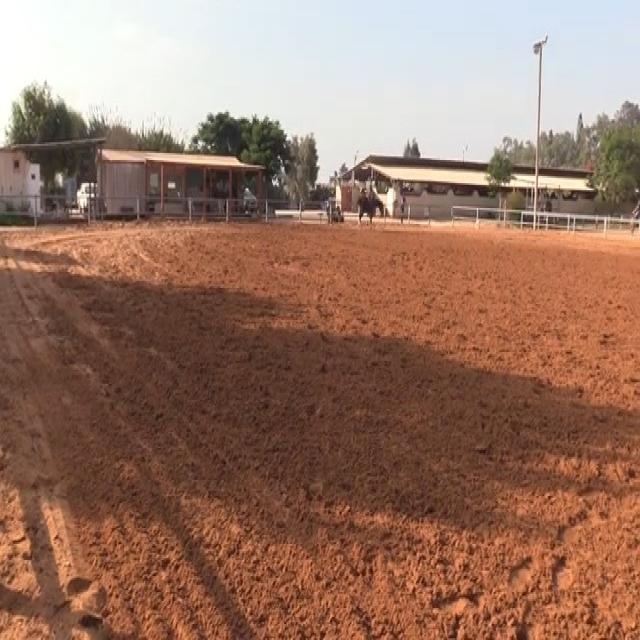horse: (355, 190, 385, 226)
